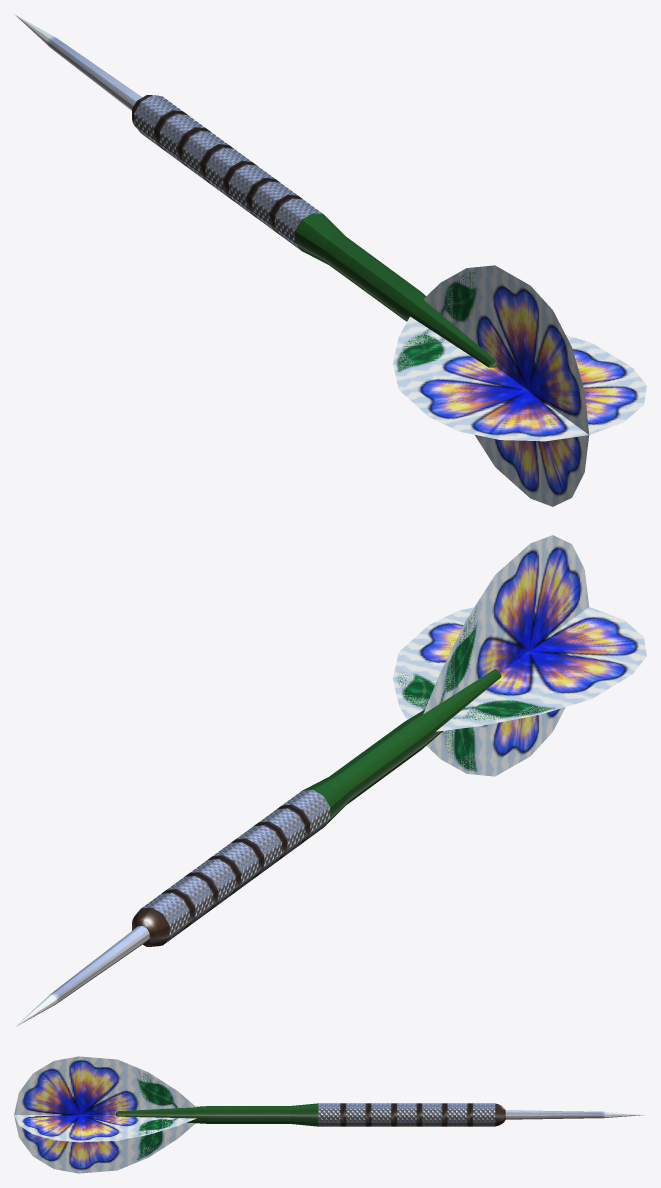
The model's file is Dart5.fbx.
The picture shows the model from 3 angles, top to bottom: view 1: azimuth 30°, elevation 25°; view 2: azimuth 150°, elevation 25°; view 3: azimuth 270°, elevation 25°; orthographic projection. The views are drawn at different scales.
Parts seen in each view (by area): view 1: Dart5; view 2: Dart5; view 3: Dart5.
Part boxes in pixels (x1,y1,x2,y2): Dart5: [14, 14, 646, 506]; Dart5: [14, 535, 646, 1027]; Dart5: [14, 1056, 644, 1173].
Size of the model in its own units: 2.74 by 2.74 by 13.41.
